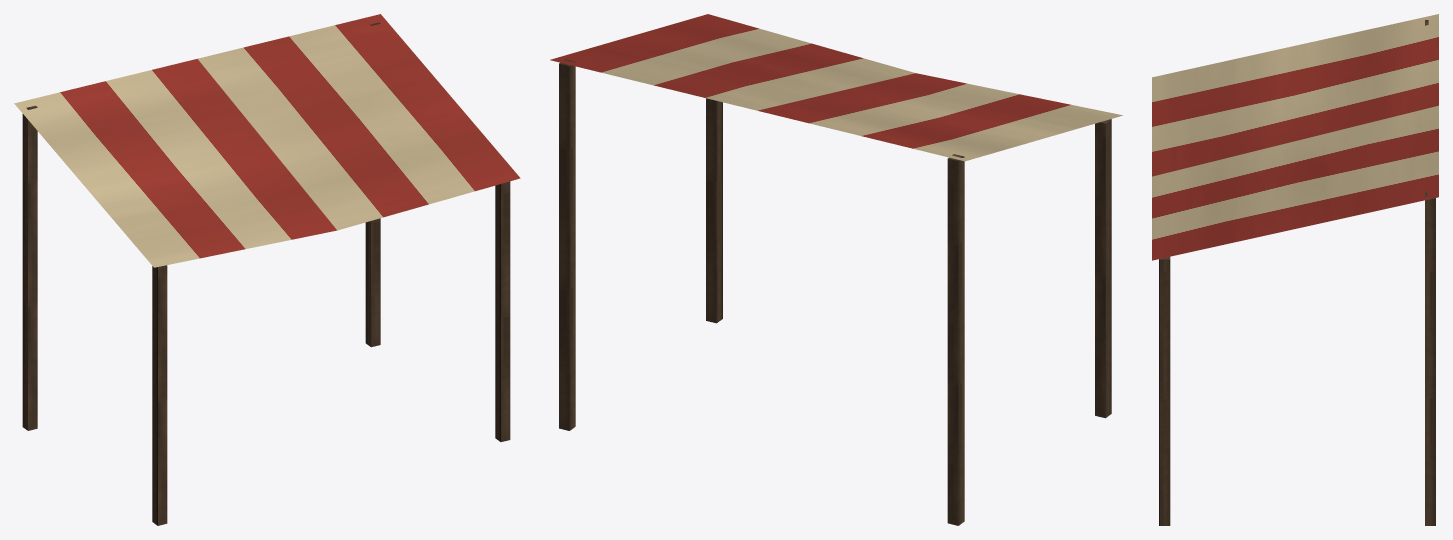
The model's file is Awning_Striped_1_LOD2.gltf.
The picture shows the model from 3 angles, left to right: view 1: azimuth 30°, elevation 25°; view 2: azimuth 150°, elevation 25°; view 3: azimuth 270°, elevation 25°; orthographic projection. The views are drawn at different scales.
Parts seen in each view (by area): view 1: Awning_Striped_1_LOD2; view 2: Awning_Striped_1_LOD2; view 3: Awning_Striped_1_LOD2.
Boxes of the visible parts, bbox=[...] form: Awning_Striped_1_LOD2: bbox=[14, 14, 520, 525]; Awning_Striped_1_LOD2: bbox=[550, 14, 1122, 525]; Awning_Striped_1_LOD2: bbox=[1152, 14, 1438, 525].
Bounding box in the file's own units: 3.1 × 2.62 × 2.05.
Materials: 2 (2 with a texture image).
